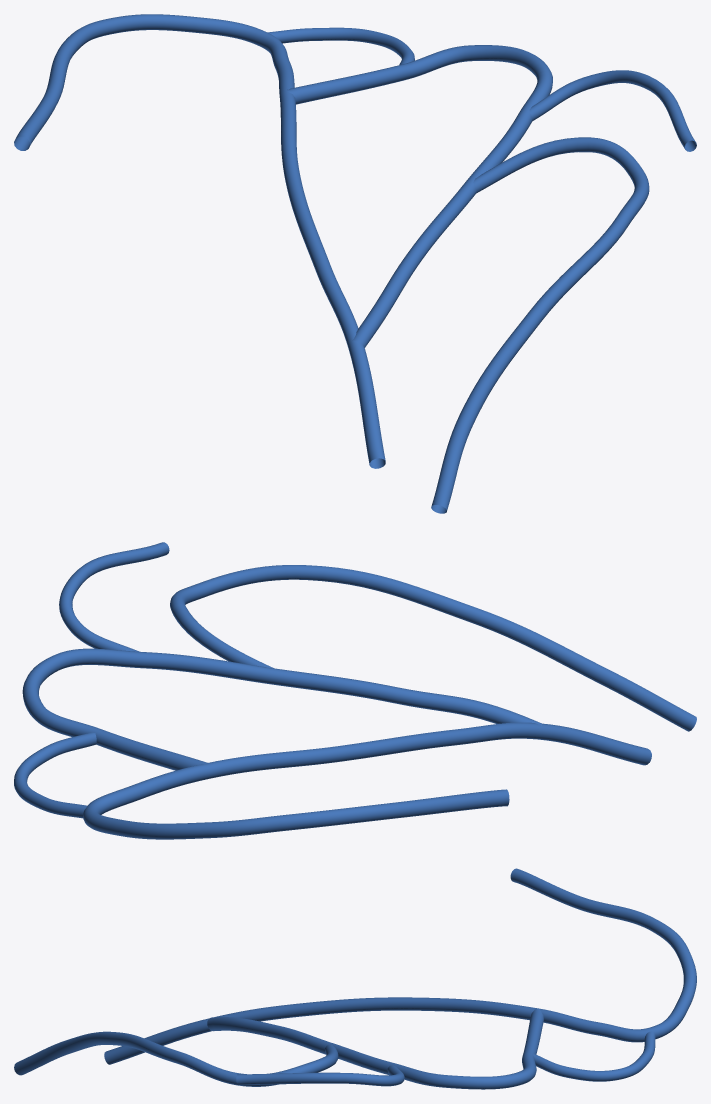
3 views of the same model, one above another, from view 1: azimuth 30°, elevation 25°; view 2: azimuth 150°, elevation 25°; view 3: azimuth 270°, elevation 25° (orthographic). The views are drawn at different scales.
Visible parts, largest first — view 1: 乙状结肠静脉; view 2: 乙状结肠静脉; view 3: 乙状结肠静脉.
Part boxes in pixels (<box>): 乙状结肠静脉: <box>14,14,696,513</box>; 乙状结肠静脉: <box>14,542,696,839</box>; 乙状结肠静脉: <box>14,868,696,1089</box>.
Size of the model in its own units: 0.097 by 0.0345 by 0.1296.
